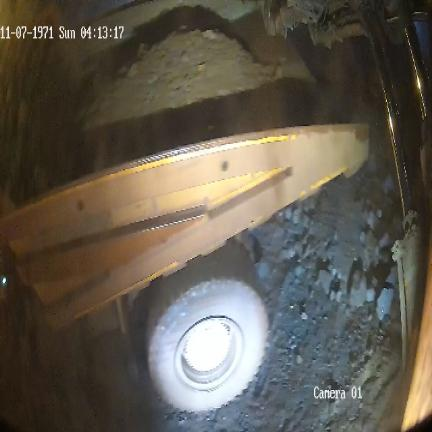pile: (239, 157, 401, 343), (77, 26, 278, 134)
